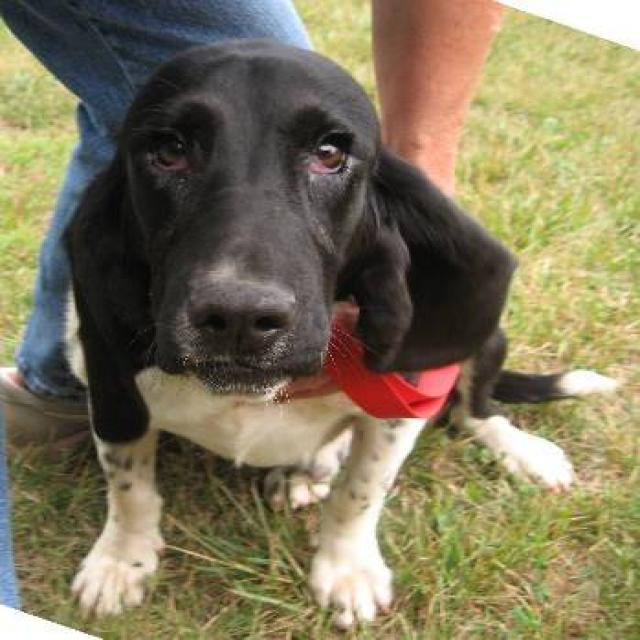dog: (59, 35, 618, 630)
